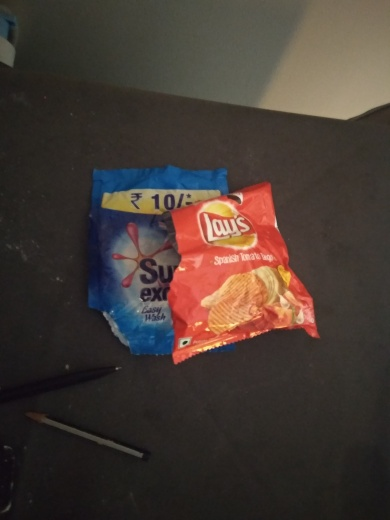lays: (152, 198, 321, 358)
surf: (85, 163, 234, 379)
